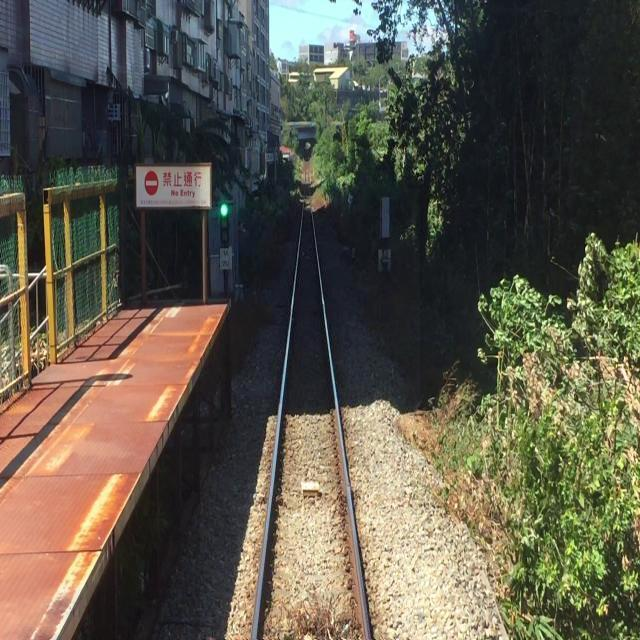rail: (202, 148, 421, 640)
